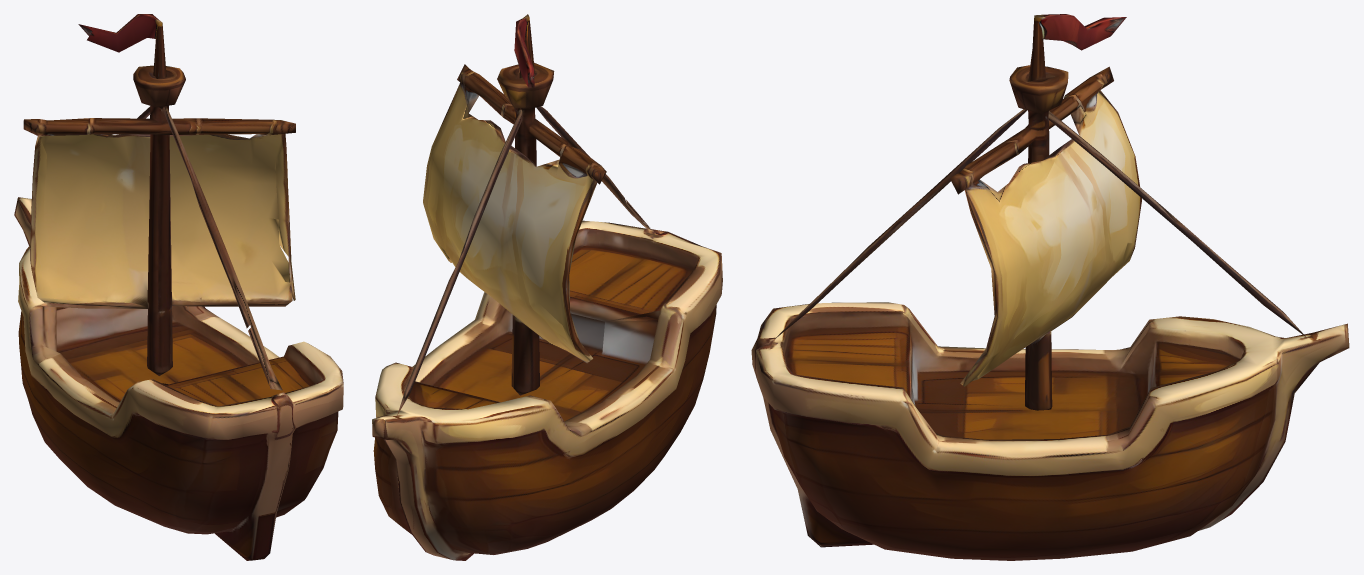
Rendered from tripo-hull.glb.
The picture shows the model from 3 angles, left to right: view 1: azimuth 30°, elevation 25°; view 2: azimuth 150°, elevation 25°; view 3: azimuth 270°, elevation 25°; orthographic projection. The views are drawn at different scales.
Parts seen in each view (by area): view 1: tripo_node_3bdd7939-42c7-493e-93a0-24056a8bed18; view 2: tripo_node_3bdd7939-42c7-493e-93a0-24056a8bed18; view 3: tripo_node_3bdd7939-42c7-493e-93a0-24056a8bed18.
Boxes of the visible parts, <box> form: tripo_node_3bdd7939-42c7-493e-93a0-24056a8bed18: <box>14,14,343,560</box>; tripo_node_3bdd7939-42c7-493e-93a0-24056a8bed18: <box>372,14,722,560</box>; tripo_node_3bdd7939-42c7-493e-93a0-24056a8bed18: <box>751,14,1349,560</box>.
Bounding box in the file's own units: 0.472 × 0.9745 × 1.
Materials: 1 (1 with a texture image).
